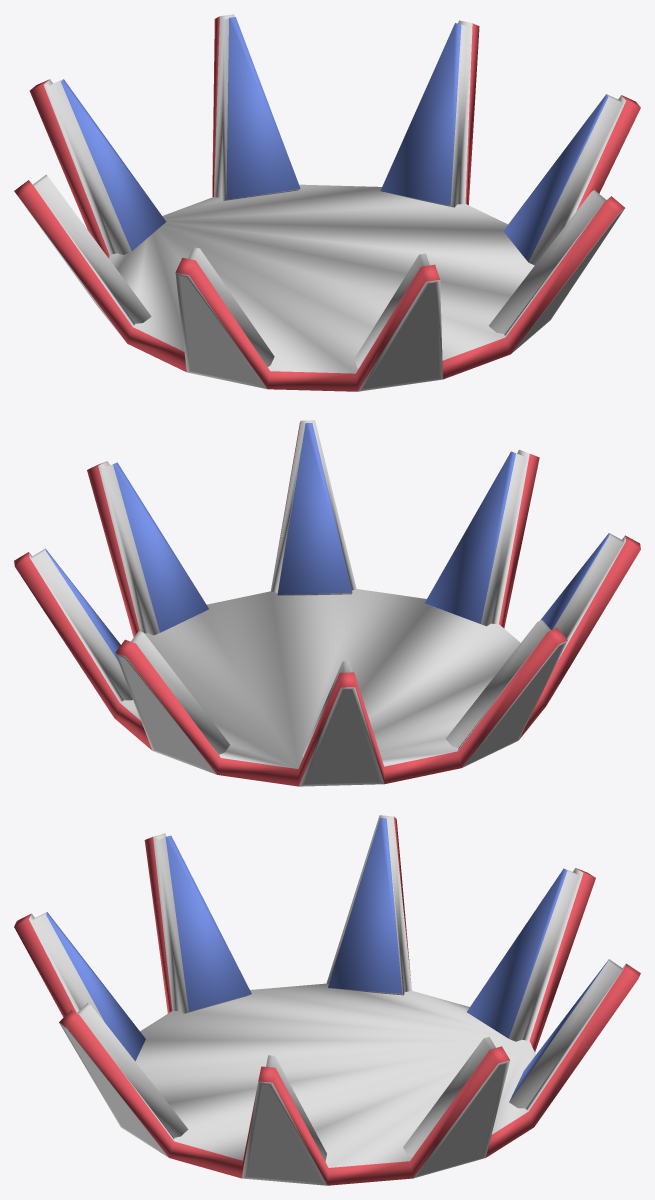
File: Emitter.fbx
The picture shows the model from 3 angles, top to bottom: view 1: azimuth 30°, elevation 25°; view 2: azimuth 150°, elevation 25°; view 3: azimuth 270°, elevation 25°; orthographic projection. The views are drawn at different scales.
Parts seen in each view (by area): view 1: Circle; view 2: Circle; view 3: Circle.
Part boxes in pixels (x1,y1,x2,y2): Circle: (14,14,640,391); Circle: (14,420,640,786); Circle: (14,815,640,1185).
Size of the model in its own units: 3.88 by 1.05 by 3.88.
